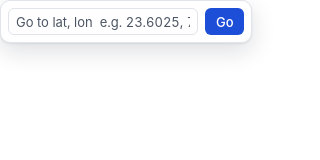
Scenario: CoordinateSearch › shows a hint when empty
What coordinates should you click on to do the following:
click the button "Go"
I would click on:
 (225, 22)
Its box is [205,8,244,35].
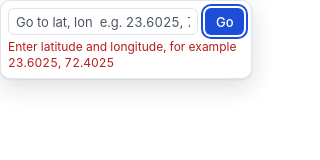
Check: the message "Enter latitude and longitude, for example 23.6025, 72.4025" is shown, box [8,38,244,70]
